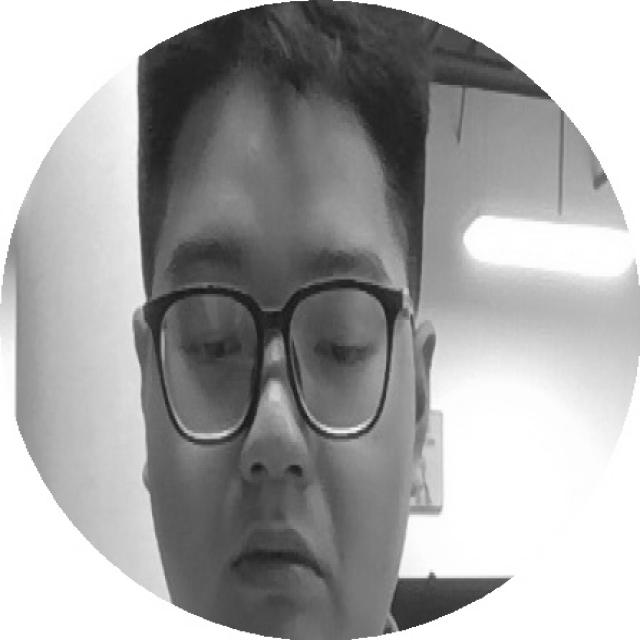real: (146, 93, 403, 640), (144, 263, 407, 390)
